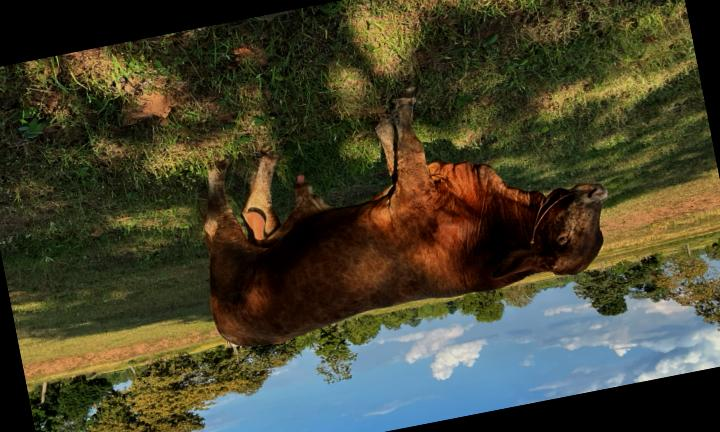Charolais: (203, 87, 607, 346)
